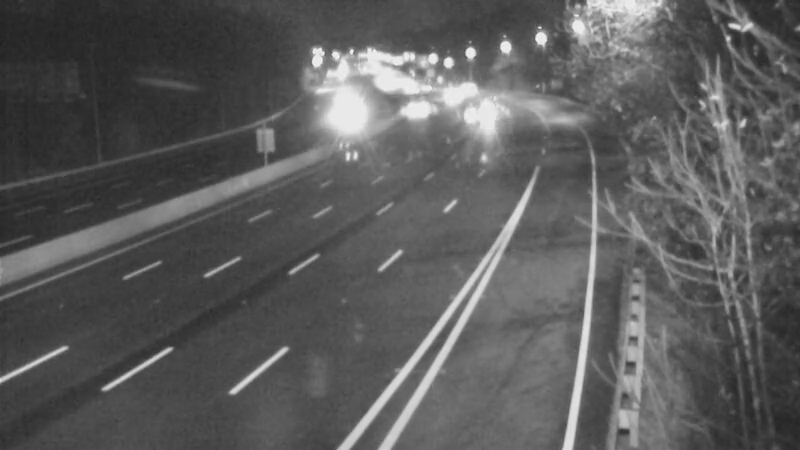vehicle: (436, 79, 486, 129), (388, 86, 438, 136), (448, 86, 498, 136), (316, 88, 366, 138)
